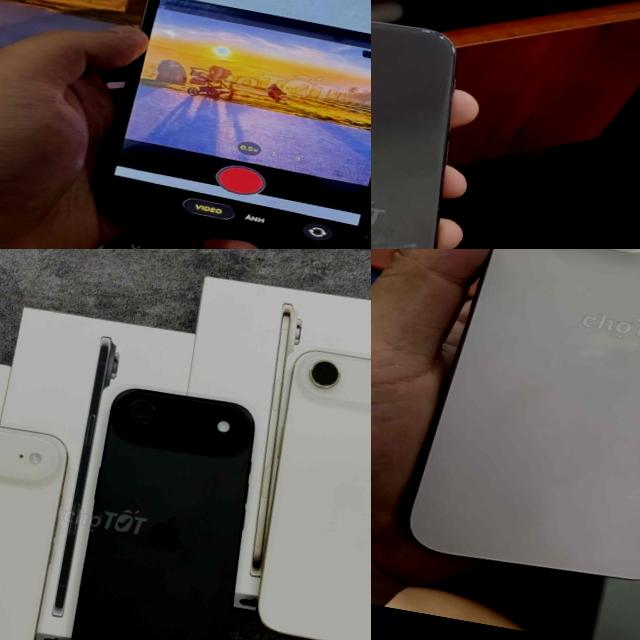gen_12_13: (75, 0, 371, 249)
gen_16: (407, 249, 640, 578)
gen_17: (51, 376, 277, 640), (236, 340, 371, 640), (0, 413, 78, 640)
gen_7_8: (371, 0, 493, 249)
